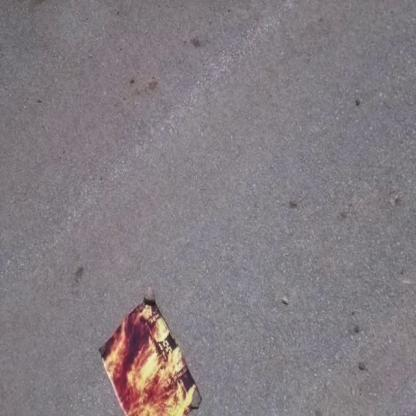fire-poster: (97, 289, 203, 415)
